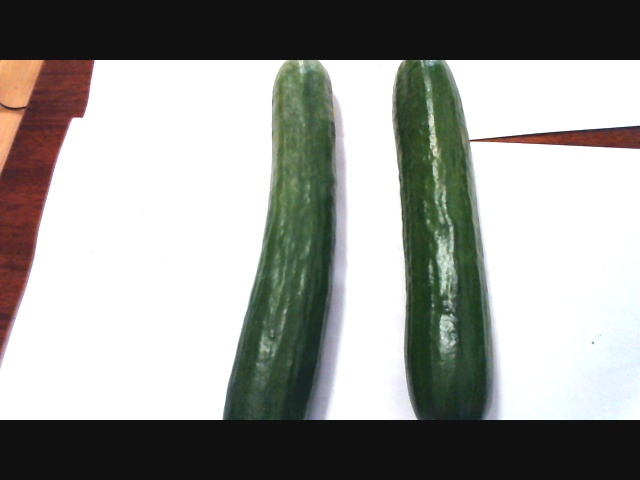cucumber: (221, 58, 342, 419), (386, 57, 494, 420)
